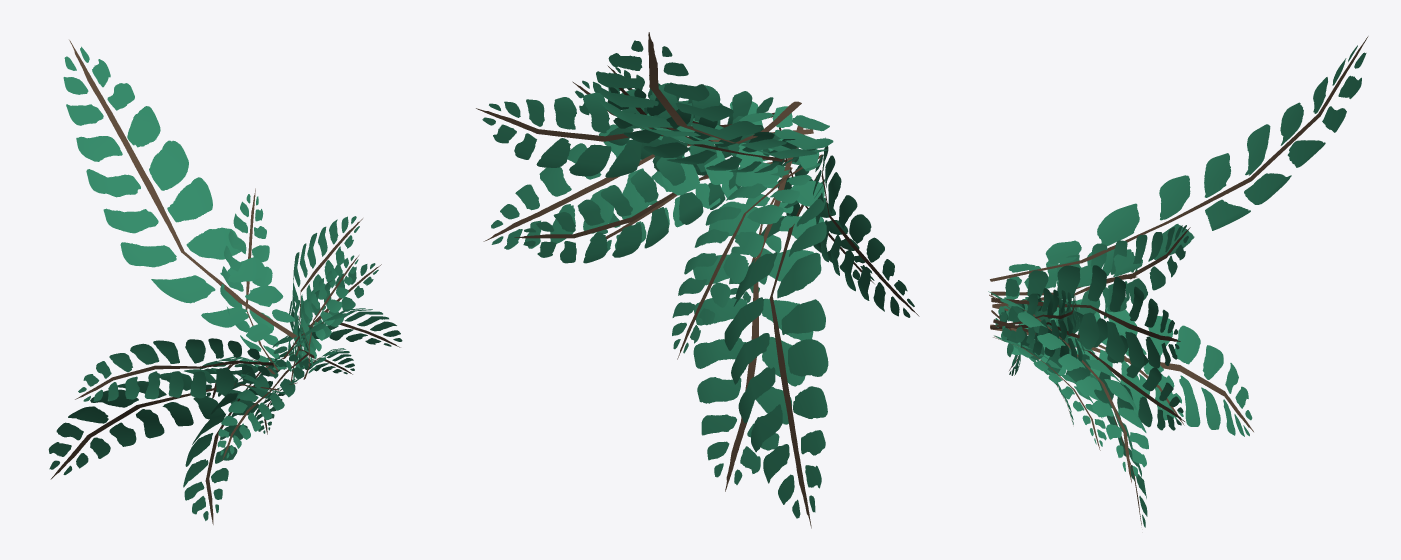
Rendered from detailmesh_fougere.FBX.
The picture shows the model from 3 angles, left to right: view 1: azimuth 30°, elevation 25°; view 2: azimuth 150°, elevation 25°; view 3: azimuth 270°, elevation 25°; orthographic projection. The views are drawn at different scales.
Parts seen in each view (by area): view 1: Mesher001; view 2: Mesher001; view 3: Mesher001.
Boxes of the visible parts, x1,y1,x2,y2 form: Mesher001: (48,40,402,524); Mesher001: (476,32,919,528); Mesher001: (988,36,1368,527).
Bounding box in the file's own units: 115 × 137 × 107.
1 material, 1 textured.
